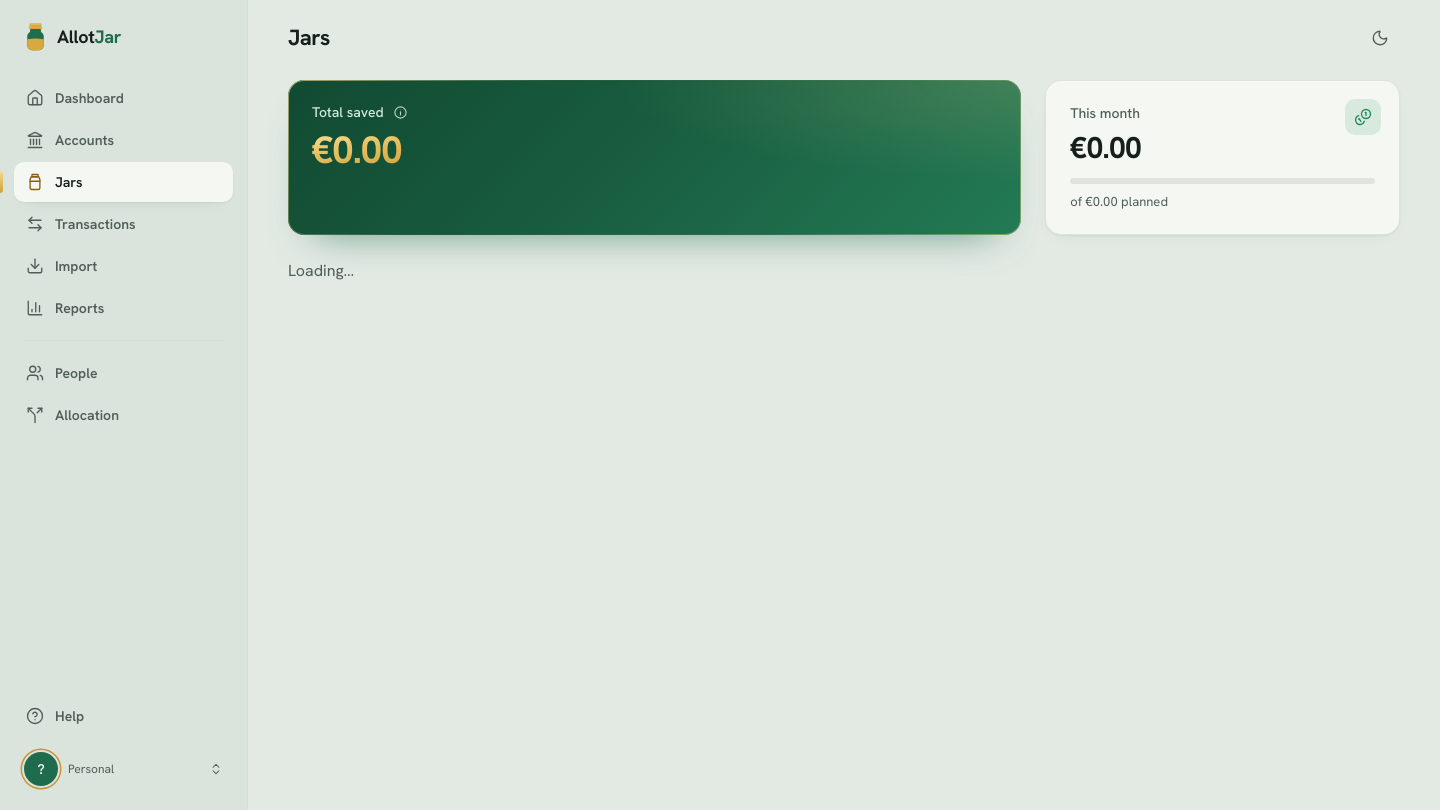
it: JarsPage — catalog supplemental (JAR) › JAR-008: shows "Loading…" over a still-rendered zeroed hero while /jars is in flight
Expected: the text "Loading…" is shown, [288,260,354,280]
Expected: the text named "Total saved: €0.00" is shown, [312,130,402,172]
Focus the button named "About total saved" at (401, 112), box [390,101,412,123]
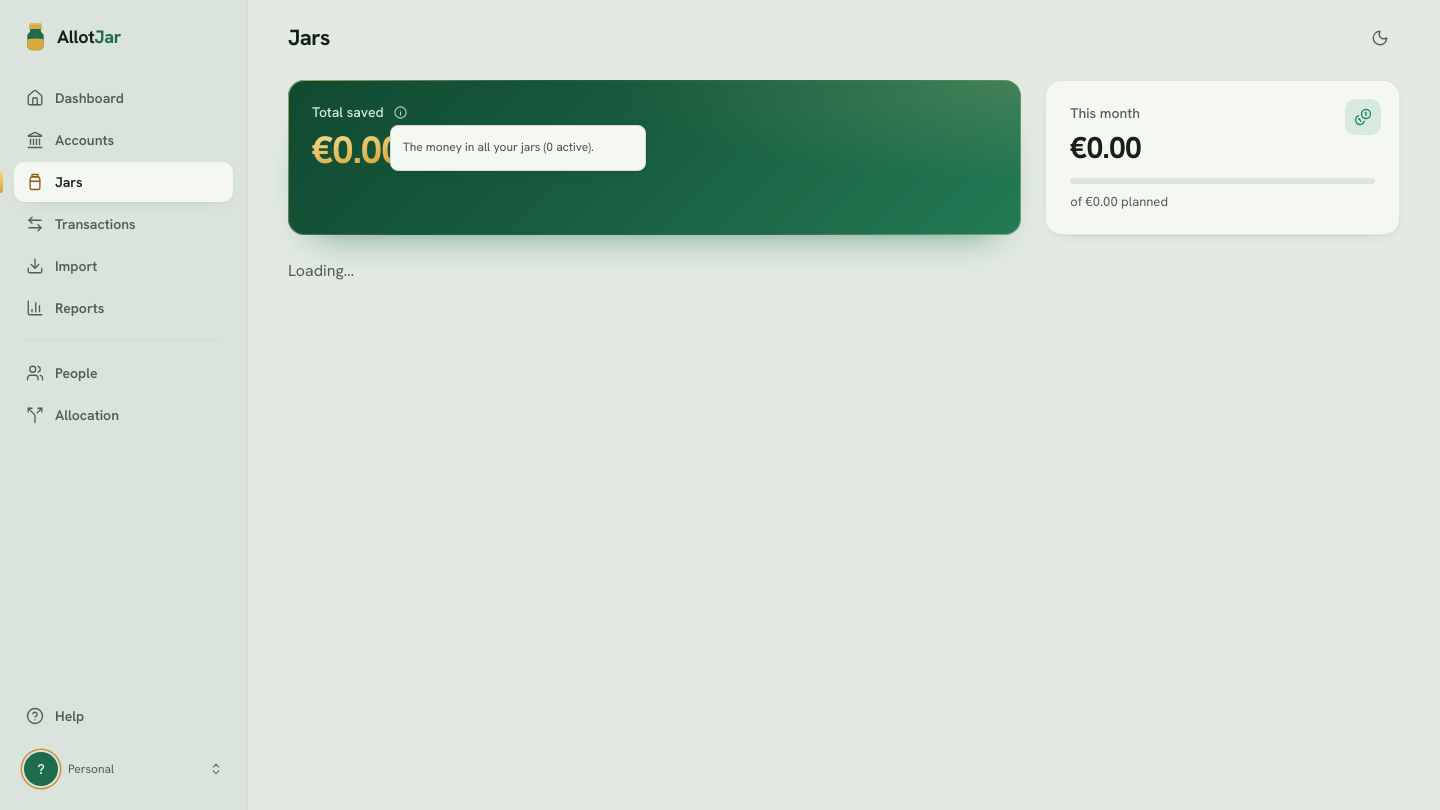
Expected: the tooltip shows "(0 active)", [390,125,646,170]
